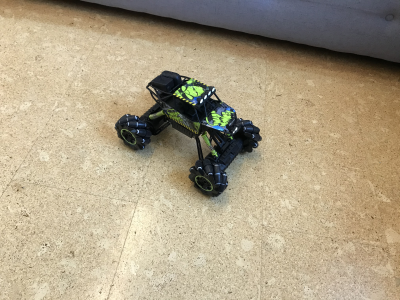remote control car: (110, 68, 265, 198)
